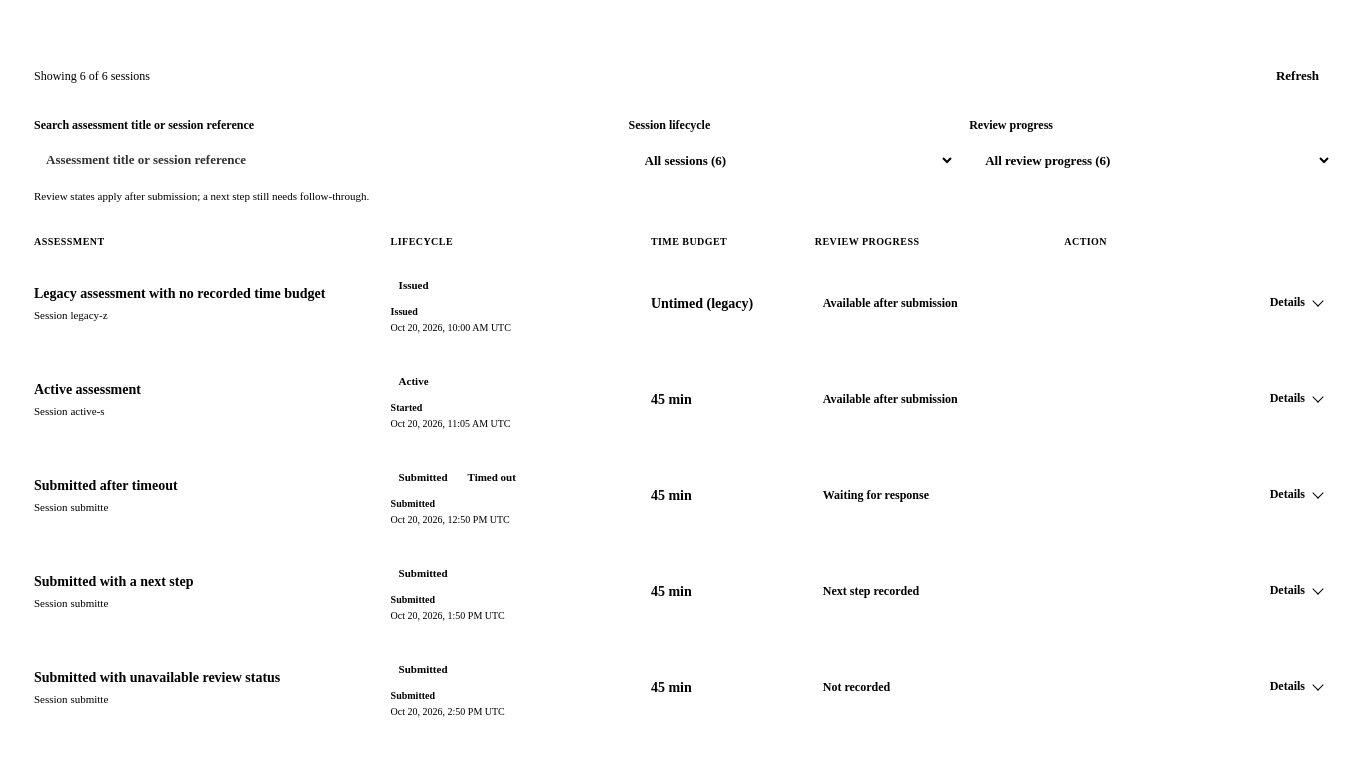
it: evaluator assessment lifecycle list › separates session lifecycle from review progress and keeps next steps open
This screenshot has width=1366, height=759.
Check: the element with class "lifecycle-row-assessment" shows "legacy-z", box [70,309,108,321]
Select "Next step recorded (1)" in the dropdown labelled "Review progress" at (1151, 160), box [969,139,1332,181]
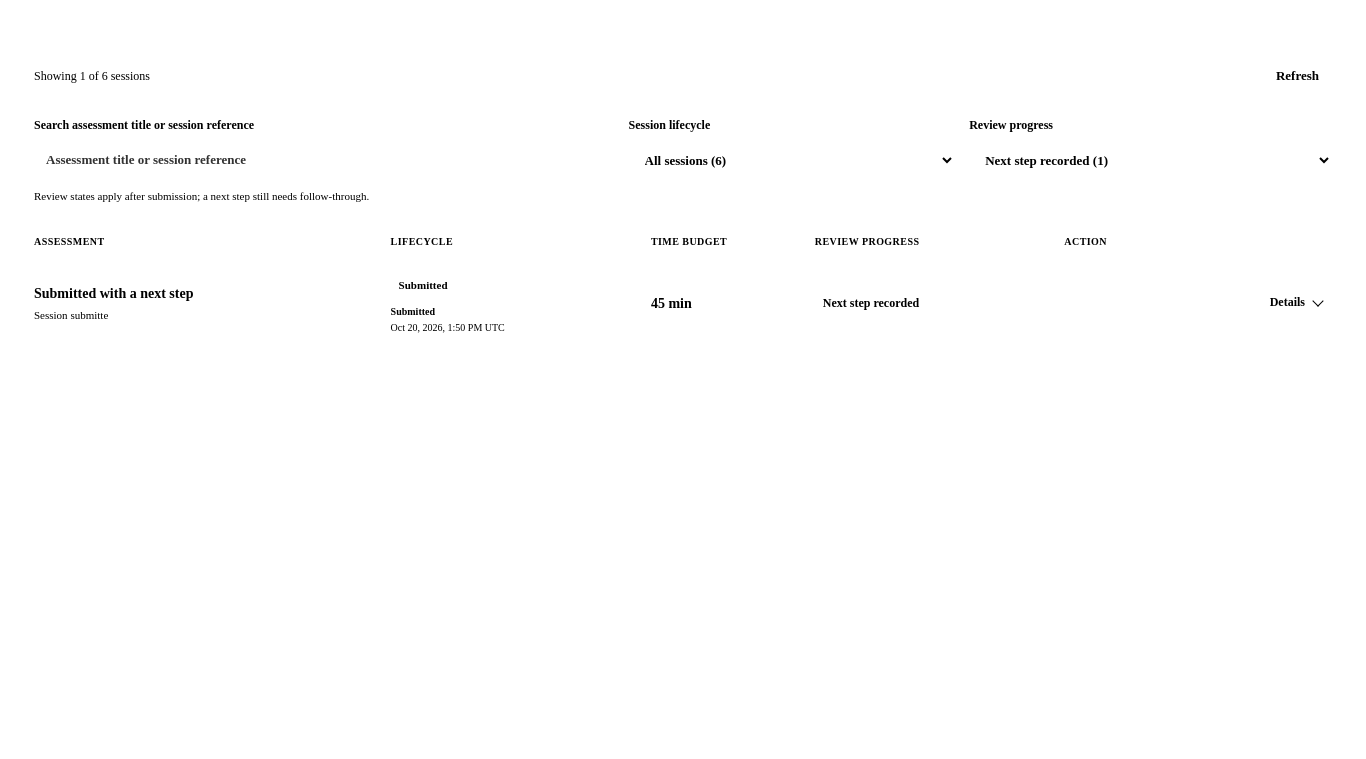
Check: the text "Submitted with a next step" is shown, box [34,286,194,301]
Check: the text "Submitted after timeout" is gone
Click the heading "Details" at (1296, 303), box [1260,284,1332,322]
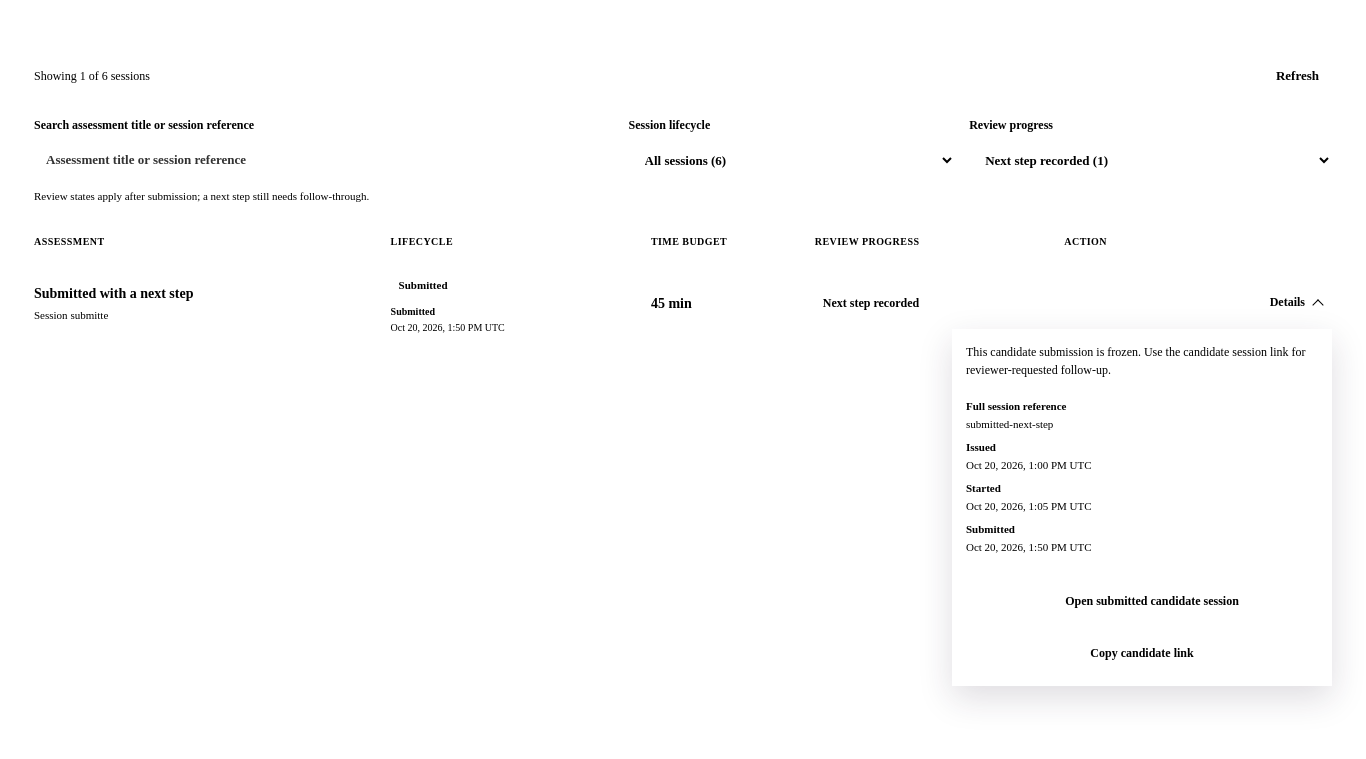
Check: the text "Open submitted candidate session" is shown, box [1065,594,1239,608]
Check: the text "This candidate submission is frozen." is shown, box [966,345,1306,377]
Check: the text "Full session reference" is shown, box [966,400,1066,412]
